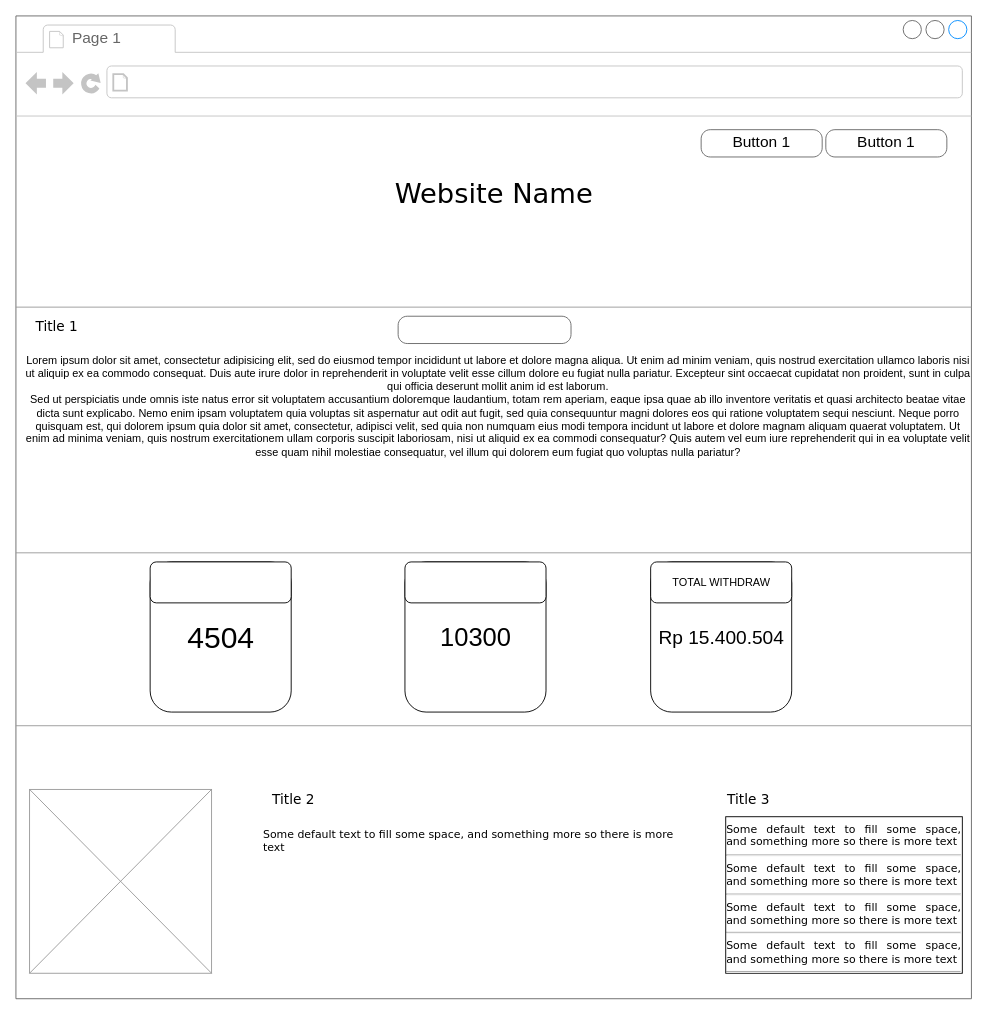
Some shapes in this 993 by 1015 pixel diagram are drawn without their labels. Each missing label, with the centre of its shape:
"DAFTAR" belongs at (x=484, y=329).
"https://www.default.com" belongs at (x=247, y=82).
"TOTAL LINK" belongs at (x=475, y=582).
"TOTAL USER" belongs at (x=220, y=582).
